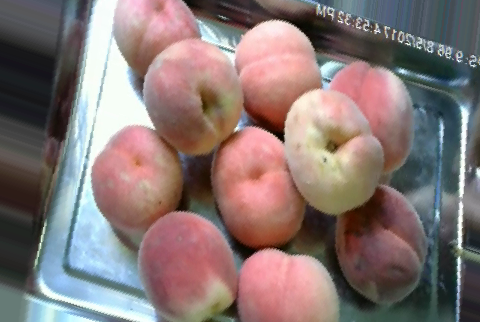Peach: (281, 90, 384, 215), (209, 126, 309, 248), (332, 182, 427, 303), (142, 38, 241, 151), (139, 210, 236, 320), (232, 17, 323, 133), (89, 125, 185, 232), (327, 60, 412, 174), (236, 248, 337, 322), (112, 0, 200, 78)
